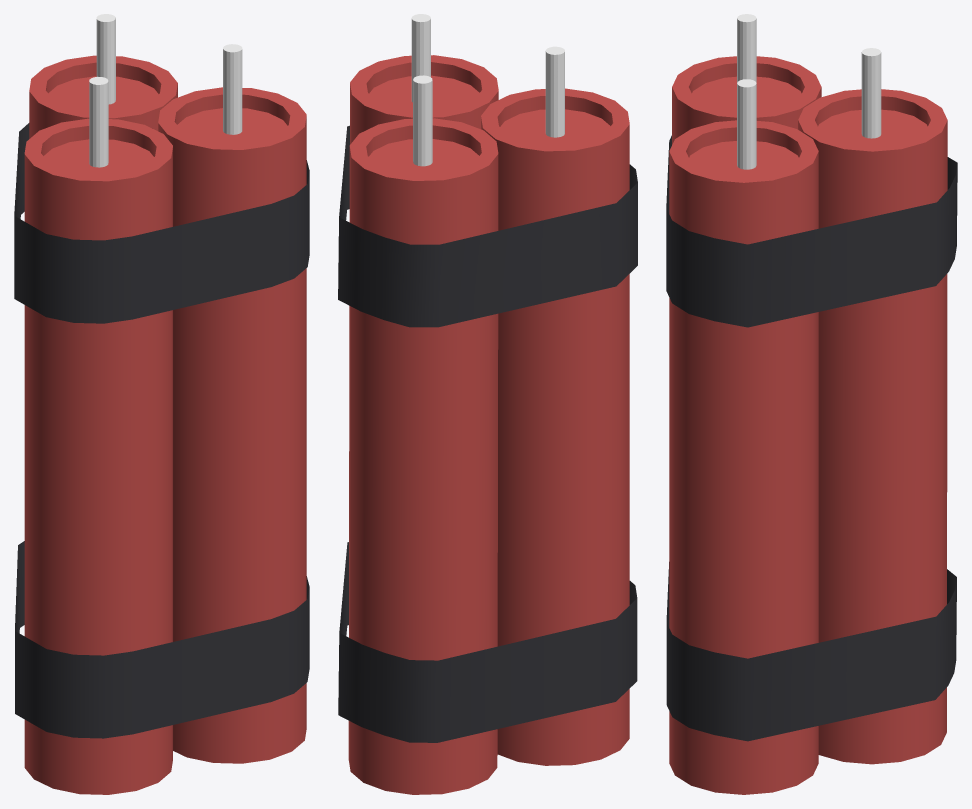
The model's file is Динамит.glb.
The picture shows the model from 3 angles, left to right: view 1: azimuth 30°, elevation 25°; view 2: azimuth 150°, elevation 25°; view 3: azimuth 270°, elevation 25°; orthographic projection.
Visible parts, largest first — view 1: Шашки, связка, Фителя; view 2: Шашки, связка, Фителя; view 3: Шашки, связка, Фителя.
Boxes of the visible parts, x1,y1,x2,y2 form: Шашки: [24, 55, 306, 794]; связка: [14, 123, 309, 738]; Фителя: [89, 14, 242, 167]; Шашки: [348, 55, 629, 794]; связка: [338, 125, 637, 742]; Фителя: [411, 14, 564, 166]; Шашки: [669, 56, 947, 794]; связка: [666, 135, 957, 741]; Фителя: [737, 14, 881, 169].
Bounding box in the file's own units: 2.13 × 4.96 × 1.92.
Materials: 3 (3 with a texture image).
